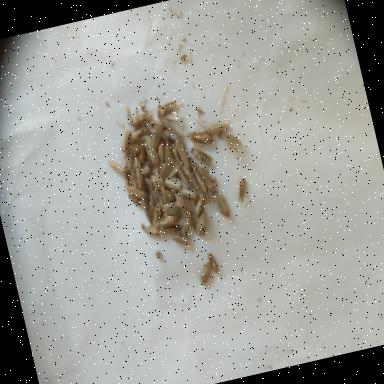pbw: (184, 126, 216, 150), (219, 127, 244, 156), (189, 142, 215, 169), (182, 161, 202, 193), (198, 164, 219, 194), (142, 133, 160, 166), (174, 136, 192, 169), (156, 100, 180, 124), (140, 218, 166, 240), (212, 190, 231, 220), (174, 192, 193, 222), (159, 114, 180, 138), (192, 212, 212, 237), (131, 156, 146, 188), (127, 124, 151, 144), (149, 124, 167, 150), (128, 110, 154, 128), (160, 138, 175, 169), (125, 182, 148, 202), (197, 262, 216, 286), (234, 177, 250, 204), (140, 198, 155, 226), (178, 185, 200, 204), (118, 128, 135, 152), (170, 141, 184, 170), (192, 195, 208, 220), (163, 174, 183, 194), (178, 214, 196, 236), (148, 170, 166, 192), (198, 176, 212, 204), (207, 119, 230, 136), (159, 212, 183, 228), (126, 138, 145, 158), (123, 152, 138, 176), (171, 231, 192, 248), (150, 202, 166, 224), (160, 184, 177, 204), (108, 158, 126, 176), (163, 200, 183, 216), (138, 160, 158, 176), (128, 191, 144, 210), (158, 162, 174, 180), (156, 141, 168, 165), (190, 154, 202, 178), (121, 164, 134, 186), (182, 195, 195, 214), (208, 252, 219, 274), (150, 117, 166, 132), (178, 168, 190, 188), (136, 144, 148, 164), (156, 191, 166, 212), (164, 167, 180, 180), (146, 192, 156, 212), (144, 175, 156, 191), (164, 224, 180, 234)
